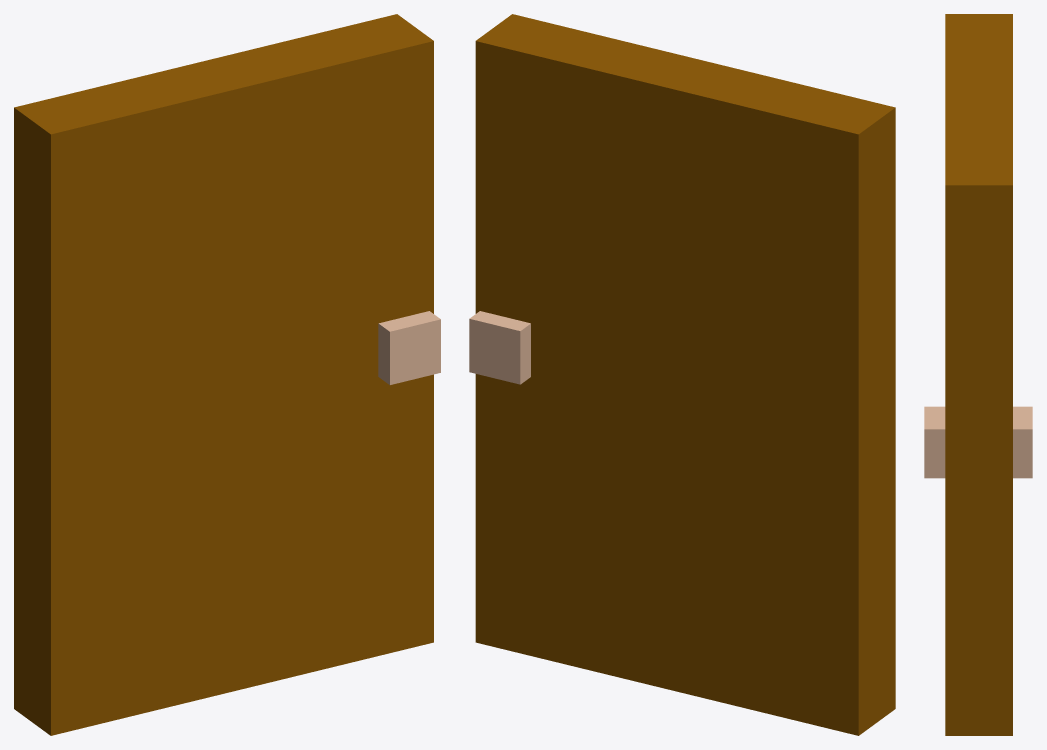
File: puertaV2.fbx
3 views of the same model, side by side, from view 1: azimuth 30°, elevation 25°; view 2: azimuth 150°, elevation 25°; view 3: azimuth 270°, elevation 25° (orthographic). The views are drawn at different scales.
Visible parts, largest first — view 1: pCube1, pCube2; view 2: pCube1, pCube2; view 3: pCube1, pCube2.
Part boxes in pixels (x1,y1,x2,y2): pCube1: (14,14,433,735); pCube2: (378,311,440,384); pCube1: (475,14,895,735); pCube2: (469,311,530,384); pCube1: (945,14,1012,735); pCube2: (924,406,1032,478).
Size of the model in its own units: 1.5 by 2.25 by 0.4.
